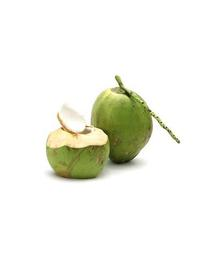coconut: (90, 87, 153, 165), (45, 123, 108, 179)
